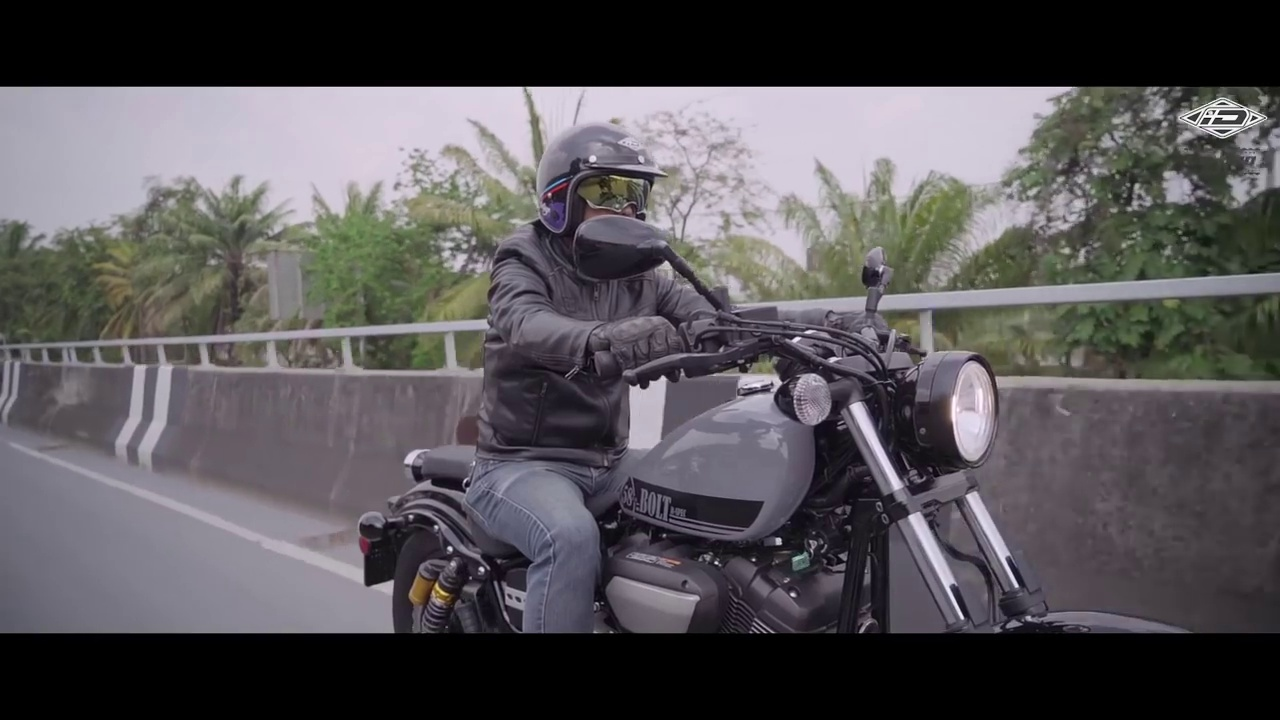helmet: (523, 121, 664, 224)
